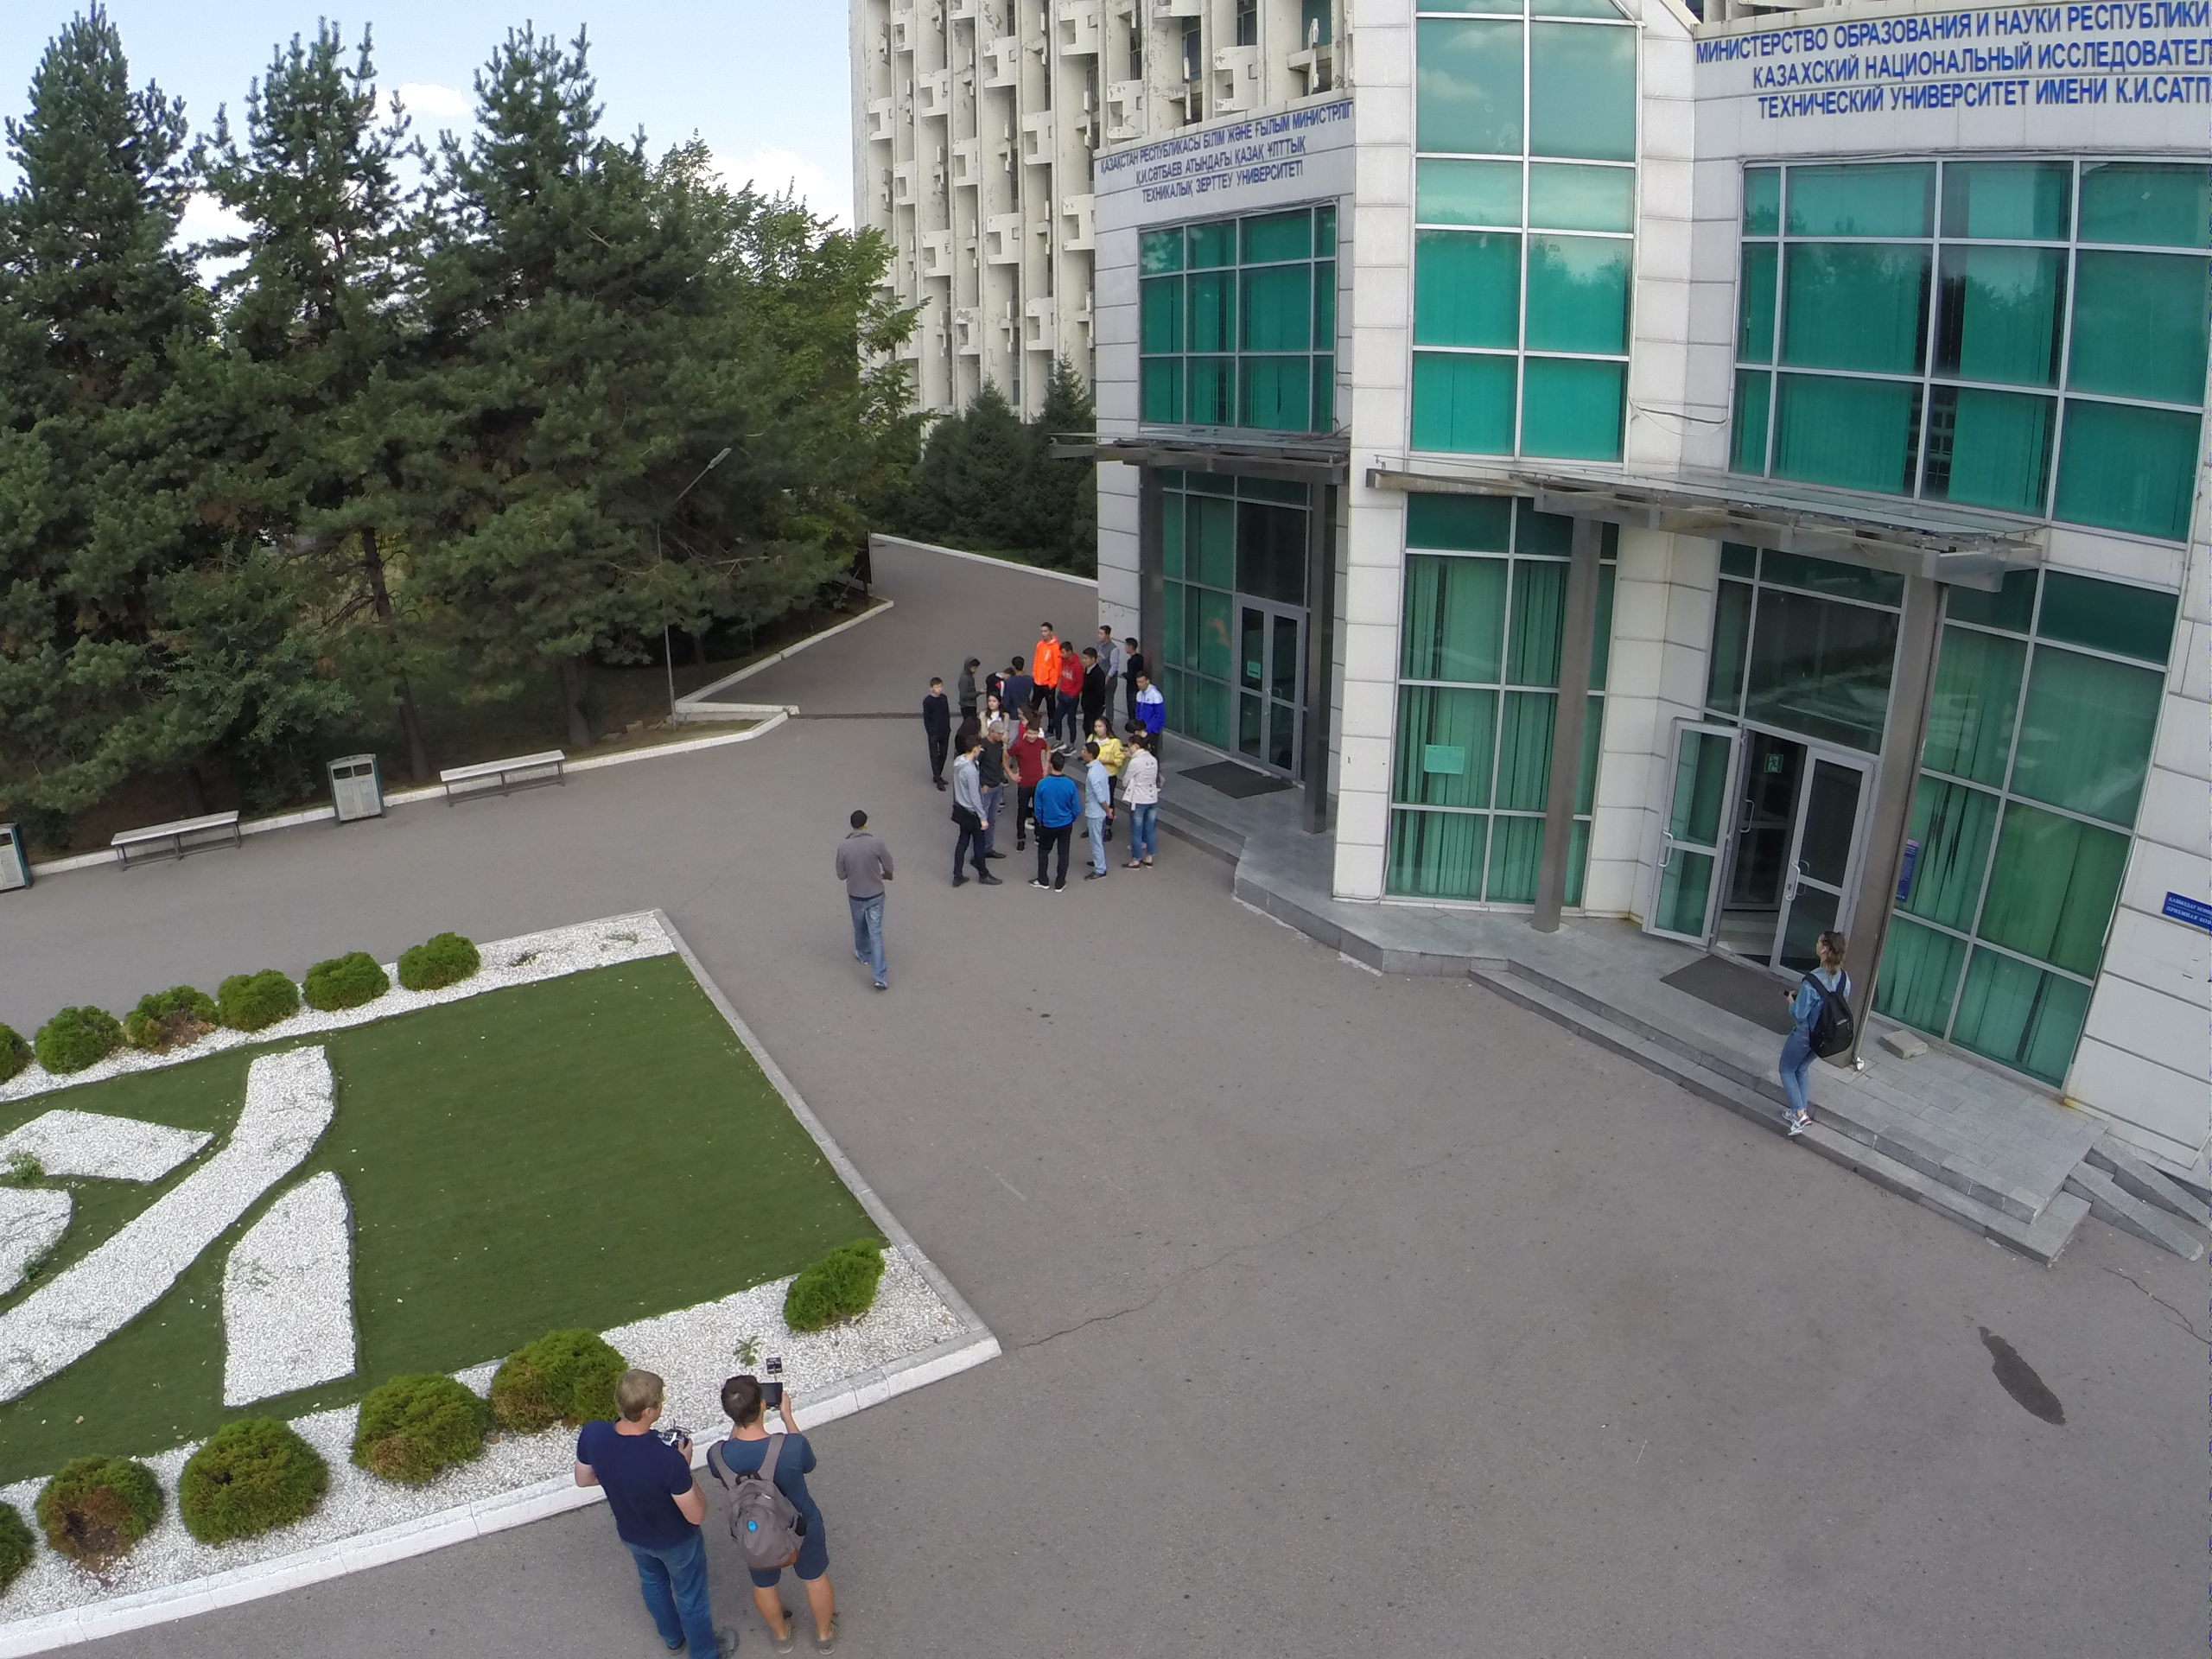person: (568, 1371, 725, 1659), (707, 1377, 838, 1659), (1760, 925, 1859, 1146), (836, 808, 893, 993), (1034, 752, 1076, 894), (957, 734, 988, 896), (1122, 734, 1158, 866), (1076, 741, 1110, 880), (918, 677, 951, 791), (983, 716, 1008, 861), (1010, 724, 1037, 856), (1030, 620, 1058, 709), (1058, 638, 1083, 736), (1078, 646, 1103, 738), (1094, 623, 1121, 696), (1135, 669, 1163, 729), (958, 653, 983, 714), (1005, 657, 1033, 709), (1090, 716, 1114, 758), (1122, 637, 1143, 676), (984, 694, 1002, 716)
